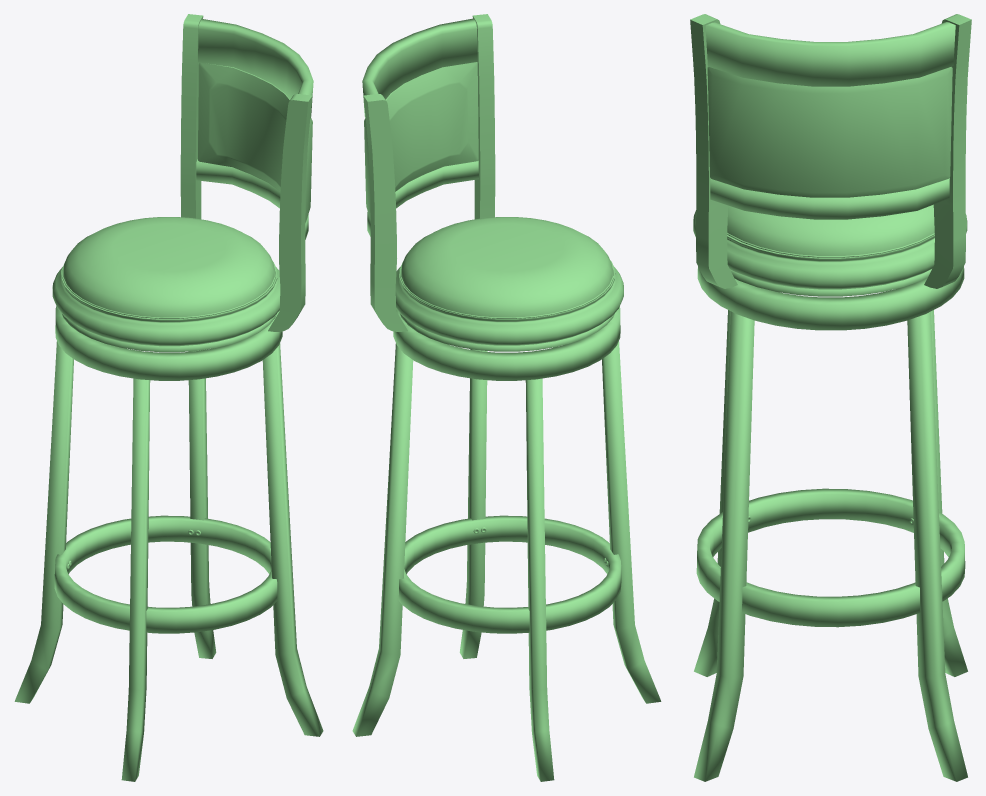
Rendered from augusta_stool_low.FBX.
3 views of the same model, side by side, from view 1: azimuth 30°, elevation 25°; view 2: azimuth 150°, elevation 25°; view 3: azimuth 270°, elevation 25° (orthographic). The views are drawn at different scales.
Visible parts, largest first — view 1: Feet_00_low, Stool_seat_06_low, Stool_back_05_low, Feet_support_01_low, Stool_back_leather_04_low, Stool_frame_03_low, Feet_support_02_low; view 2: Feet_00_low, Stool_seat_06_low, Stool_back_05_low, Feet_support_01_low, Stool_back_leather_04_low, Stool_frame_03_low, Feet_support_02_low; view 3: Feet_00_low, Stool_back_05_low, Stool_back_leather_04_low, Feet_support_01_low, Stool_frame_03_low, Feet_support_02_low, Stool_seat_06_low.
Part boxes in pixels (x1=…): Feet_00_low: x1=14, y1=341, x2=323, y2=781; Stool_seat_06_low: x1=62, y1=217, x2=275, y2=318; Stool_back_05_low: x1=180, y1=14, x2=313, y2=331; Feet_support_01_low: x1=54, y1=515, x2=277, y2=633; Stool_back_leather_04_low: x1=198, y1=62, x2=312, y2=222; Stool_frame_03_low: x1=52, y1=261, x2=280, y2=352; Feet_support_02_low: x1=55, y1=306, x2=282, y2=380; Feet_00_low: x1=352, y1=341, x2=661, y2=781; Stool_seat_06_low: x1=400, y1=217, x2=613, y2=318; Stool_back_05_low: x1=362, y1=14, x2=495, y2=331; Feet_support_01_low: x1=398, y1=515, x2=621, y2=633; Stool_back_leather_04_low: x1=364, y1=62, x2=478, y2=219; Stool_frame_03_low: x1=395, y1=260, x2=623, y2=351; Feet_support_02_low: x1=393, y1=307, x2=620, y2=380; Feet_00_low: x1=694, y1=310, x2=967, y2=781; Stool_back_05_low: x1=690, y1=14, x2=971, y2=288; Stool_back_leather_04_low: x1=707, y1=67, x2=952, y2=197; Feet_support_01_low: x1=696, y1=488, x2=965, y2=627; Stool_frame_03_low: x1=693, y1=210, x2=967, y2=296; Feet_support_02_low: x1=697, y1=267, x2=964, y2=330; Stool_seat_06_low: x1=727, y1=204, x2=934, y2=257.
Bounding box in the file's own units: 15.13 × 41.35 × 14.07.
